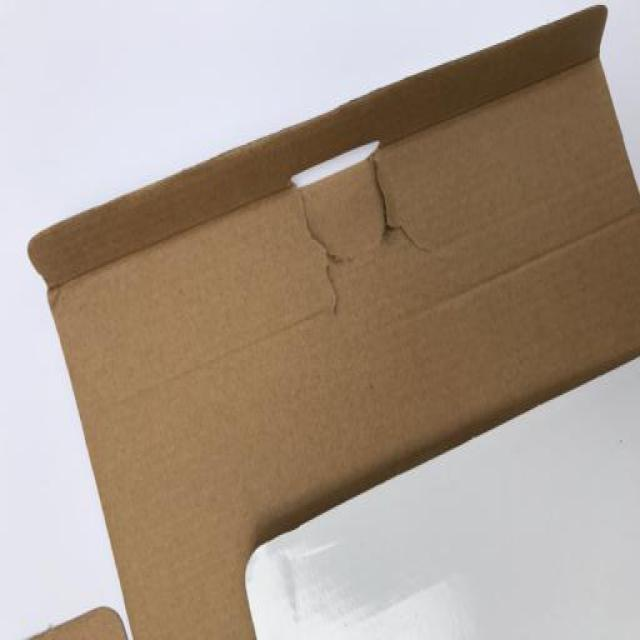Cardboard: (8, 3, 640, 640)
